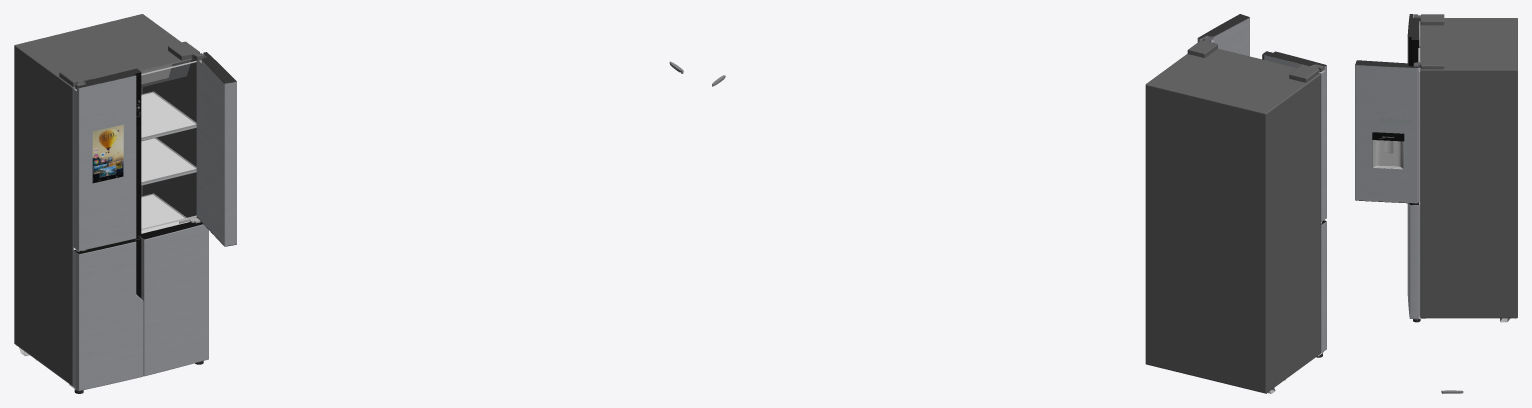
Rendered from FridgeAnimated.fbx.
The picture shows the model from 3 angles, left to right: view 1: azimuth 30°, elevation 25°; view 2: azimuth 150°, elevation 25°; view 3: azimuth 270°, elevation 25°; orthographic projection. The views are drawn at different scales.
Parts seen in each view (by area): view 1: model, Text, Group_012, Group_011, Group_009, Group_013; view 2: model, Text; view 3: model, Text.
Part boxes in pixels (<box>): model: <box>14,14,208,393</box>; Text: <box>196,52,236,246</box>; Group_012: <box>141,91,196,141</box>; Group_011: <box>141,137,196,185</box>; Group_009: <box>73,193,189,249</box>; Group_013: <box>73,59,191,88</box>; model: <box>1145,37,1326,393</box>; Text: <box>1197,14,1249,56</box>; model: <box>1407,14,1517,322</box>; Text: <box>1355,60,1419,203</box>.
Bounding box in the file's own units: 823 × 388 × 223.
